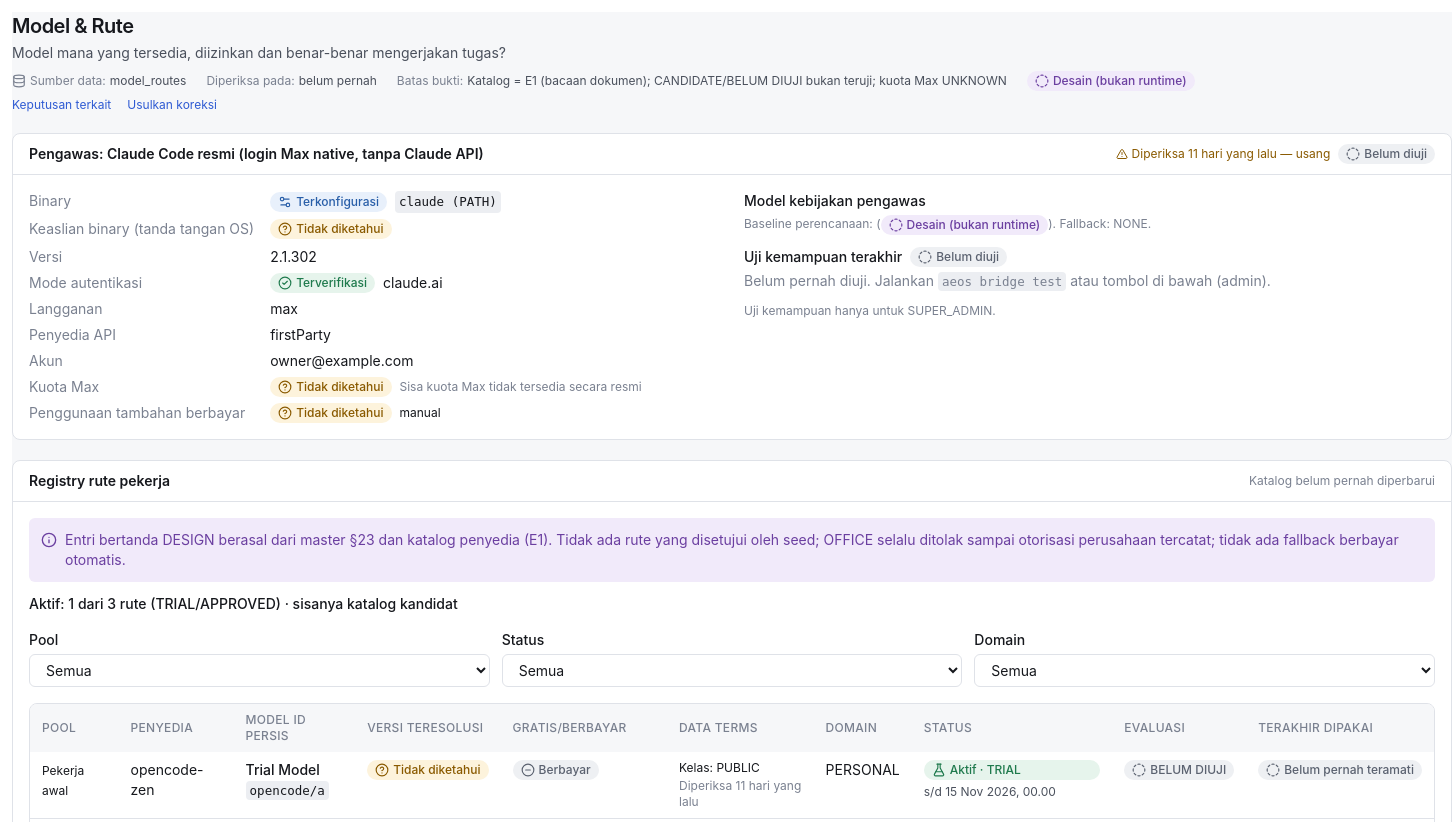
Scenario: Models & Routes: header vs filters (R28 round 3) › bite: with Status=CANDIDATE the registry-wide counts stay and the label adds the rows shown
Check: the text with test id "routes-active-summary" does not show "ditampilkan", box [29, 595, 458, 612]
Select "CANDIDATE" in the dropdown named "Filter status": (732, 670) [502, 654, 962, 687]
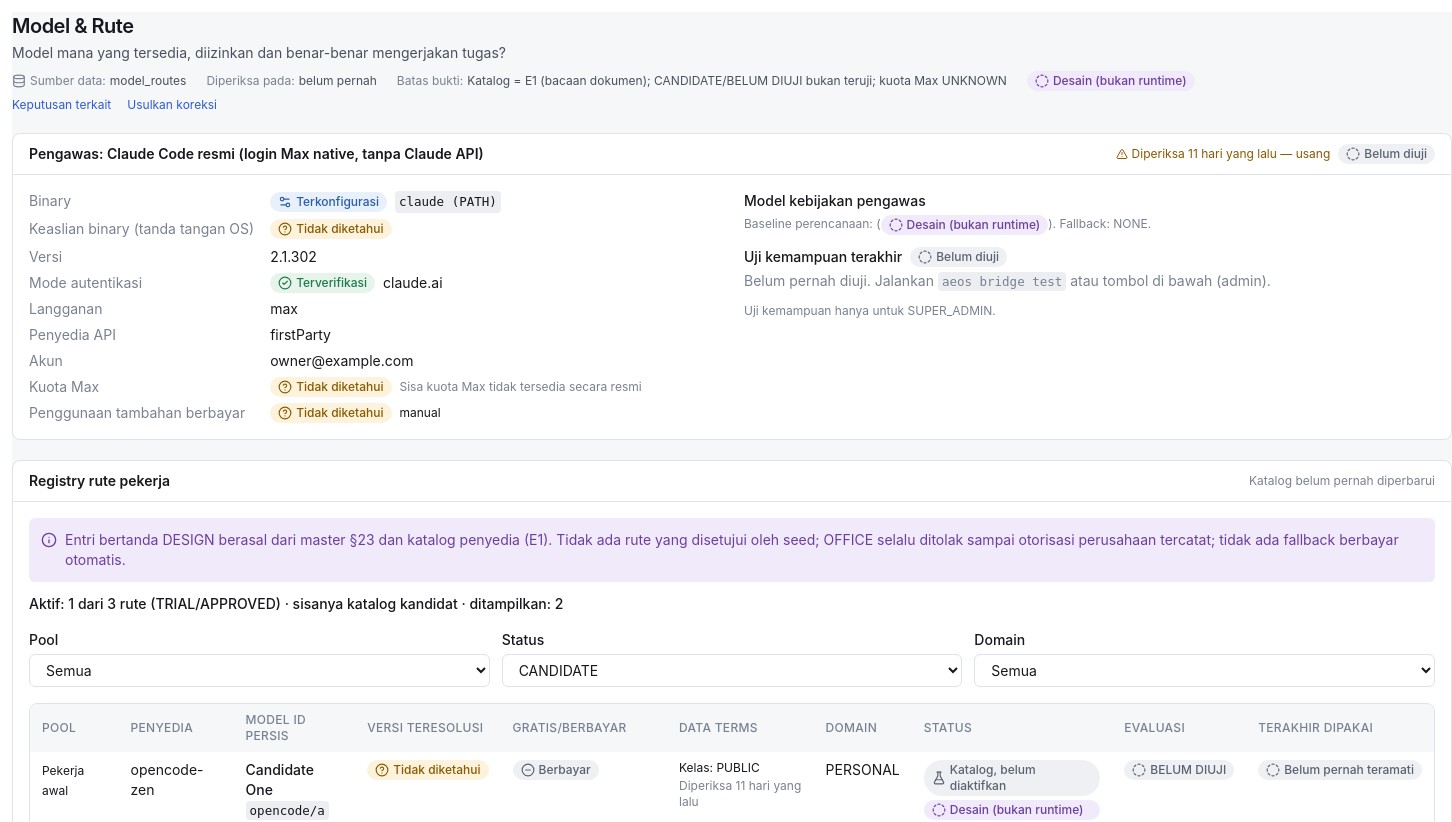
Check: the text with test id "routes-active-summary" shows "Aktif: 1 dari 3 rute (TRIAL/APPROVED) · sisanya katalog kandidat · ditampilkan: 2", box [29, 595, 563, 612]
